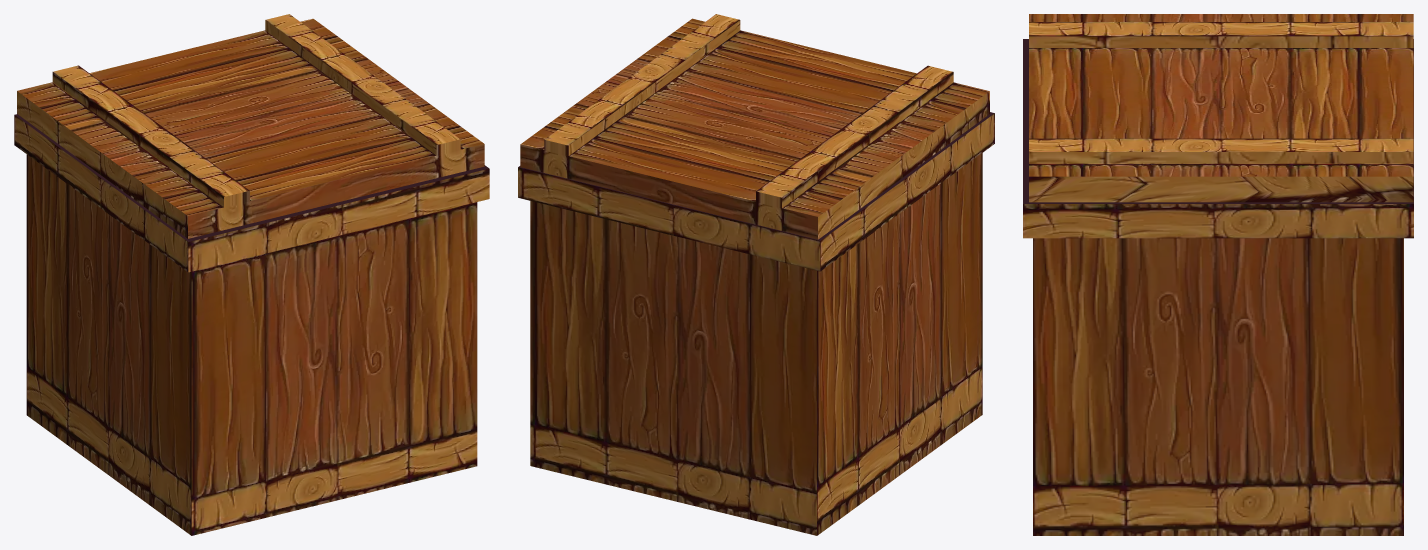
3 views of the same model, side by side, from view 1: azimuth 30°, elevation 25°; view 2: azimuth 150°, elevation 25°; view 3: azimuth 270°, elevation 25° (orthographic). The views are drawn at different scales.
Visible parts, largest first — view 1: box, box-cover; view 2: box, box-cover; view 3: box, box-cover.
Boxes of the visible parts, left/top/right/bottom form: box: left=14, top=114, right=489, bottom=535; box-cover: left=17, top=14, right=484, bottom=238; box: left=518, top=112, right=994, bottom=535; box-cover: left=520, top=14, right=989, bottom=239; box: left=1023, top=39, right=1413, bottom=535; box-cover: left=1029, top=14, right=1413, bottom=202.
Size of the model in its own units: 1140 by 1204 by 1140.
